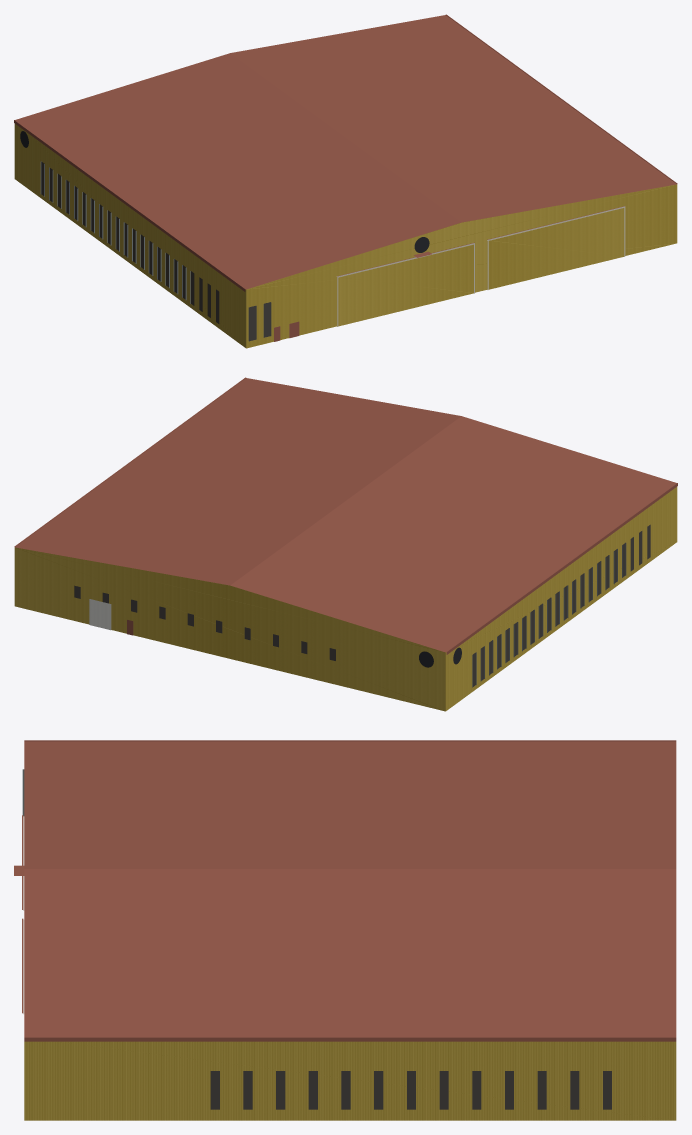
File: cyxd_hangar38_lod2.gltf
The picture shows the model from 3 angles, top to bottom: view 1: azimuth 30°, elevation 25°; view 2: azimuth 150°, elevation 25°; view 3: azimuth 270°, elevation 25°; orthographic projection. The views are drawn at different scales.
Visible parts, largest first — view 1: cyxd_hangar38; view 2: cyxd_hangar38; view 3: cyxd_hangar38.
Part boxes in pixels (x1,y1,x2,y2): cyxd_hangar38: [14, 14, 677, 348]; cyxd_hangar38: [14, 377, 677, 711]; cyxd_hangar38: [14, 740, 676, 1120].
Size of the model in its own units: 69.08 by 11.2 by 65.16.
